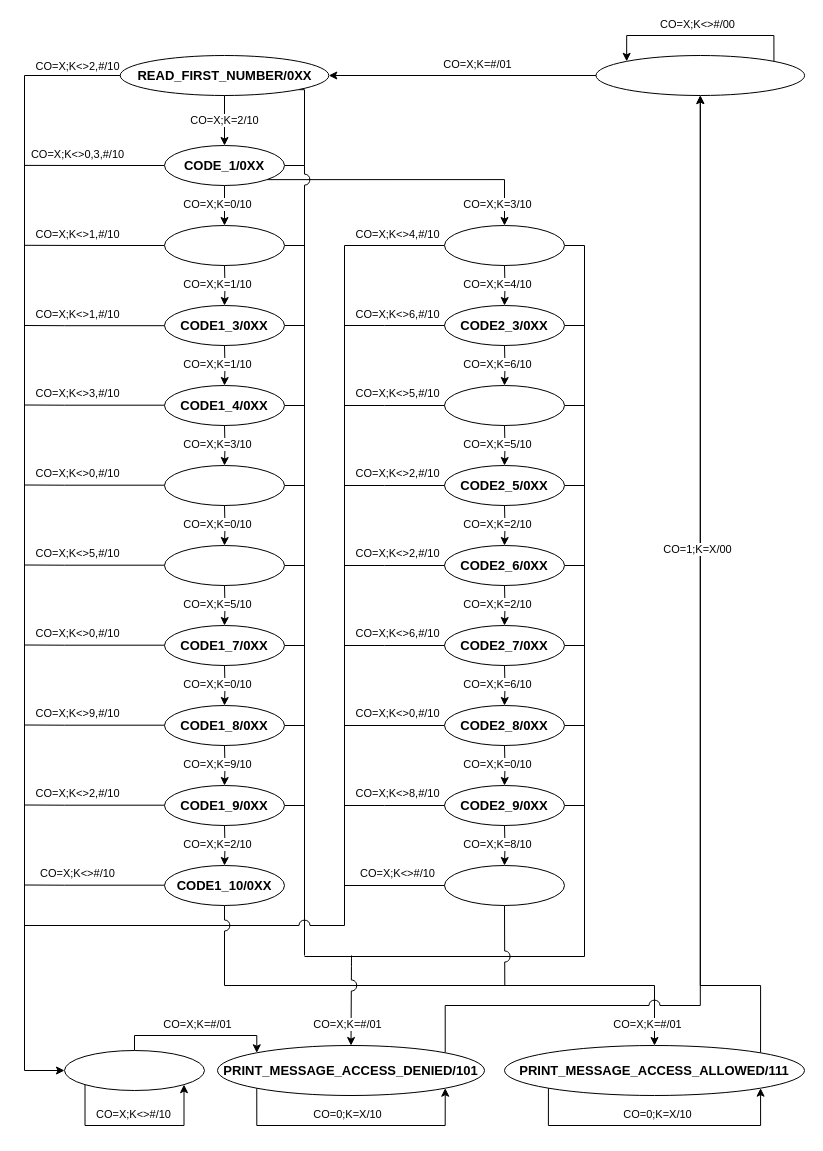
The diagram is 823 pixels wide and 1151 high, and some of its shapes have lost their labels. The shapes that lost their labels are listed below. From the top down, each one's centre as x and y in pixels, then its label:
[700,75]: MESSAGE_PRINTED/XXX
[224,245]: CODE1_2/0XX
[504,245]: CODE2_2/0XX
[504,405]: CODE2_4/0XX
[224,485]: CODE1_5/0XX
[224,565]: CODE1_6/0XX
[504,885]: CODE2_10/0XX
[134,1070]: CODE_WRONG/0XX
